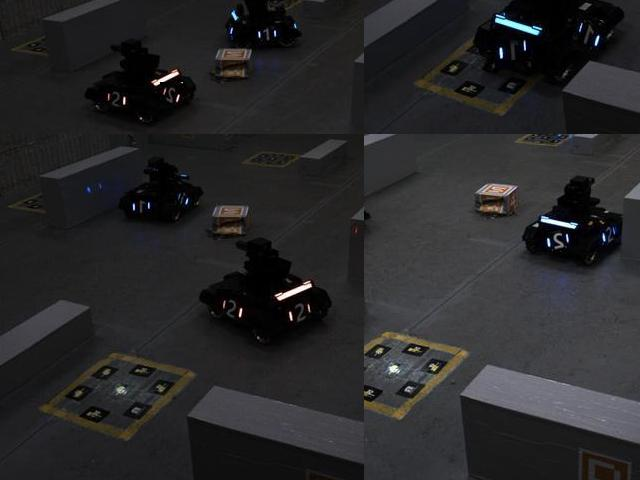armor: (495, 36, 532, 71), (573, 21, 607, 52), (218, 291, 247, 327), (285, 298, 315, 327), (541, 231, 573, 253), (105, 86, 128, 114), (252, 23, 281, 44), (160, 82, 184, 107), (130, 198, 156, 216), (599, 225, 619, 245), (175, 189, 195, 208)
